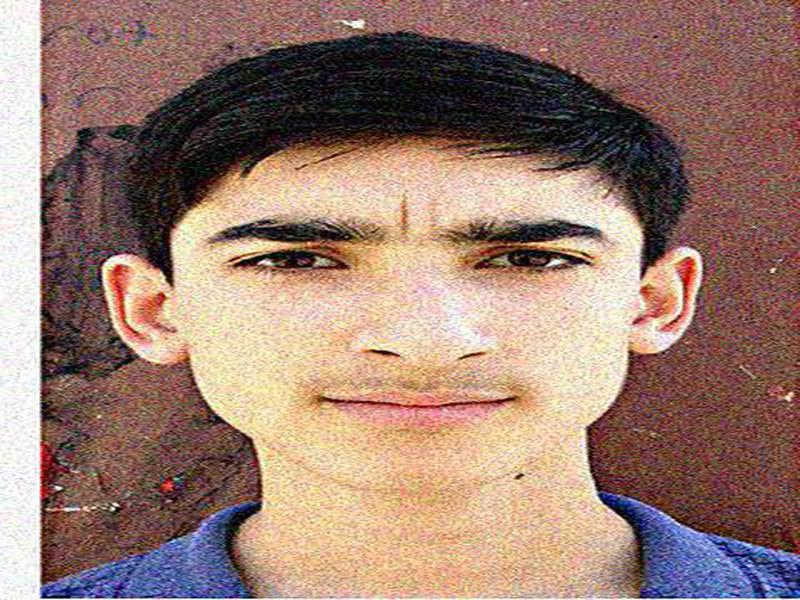without_mask: (162, 161, 647, 497)
